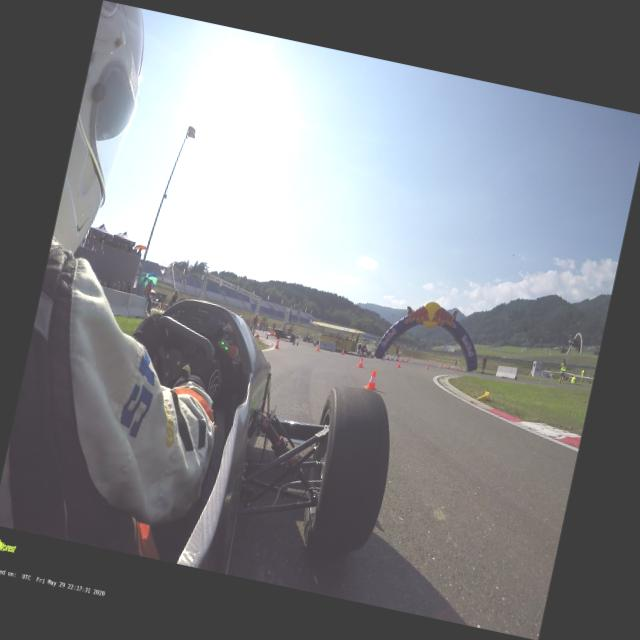orange_cone: (364, 368, 380, 390), (356, 357, 364, 368), (274, 338, 280, 348), (396, 360, 401, 368), (315, 344, 319, 351), (341, 348, 345, 355), (424, 363, 428, 369), (382, 356, 385, 360), (438, 364, 440, 369), (446, 365, 449, 368), (455, 366, 458, 369), (443, 364, 445, 368), (452, 366, 454, 369), (460, 367, 462, 370)
yellow_cone: (475, 389, 490, 403)
